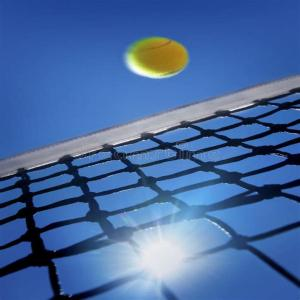Tennis: (123, 34, 192, 84)
